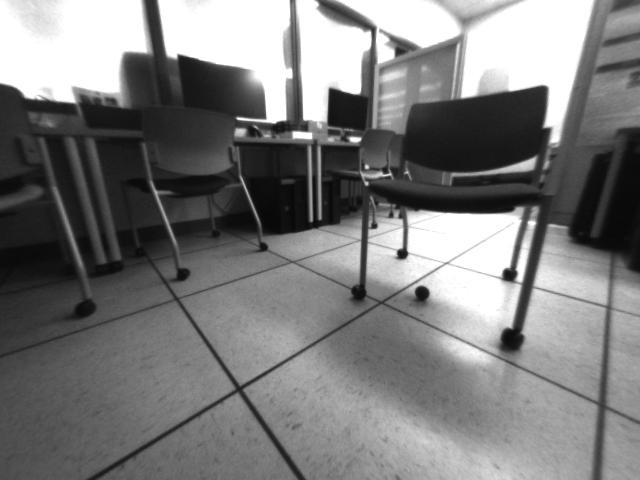dogtoy: (408, 277, 438, 305)
